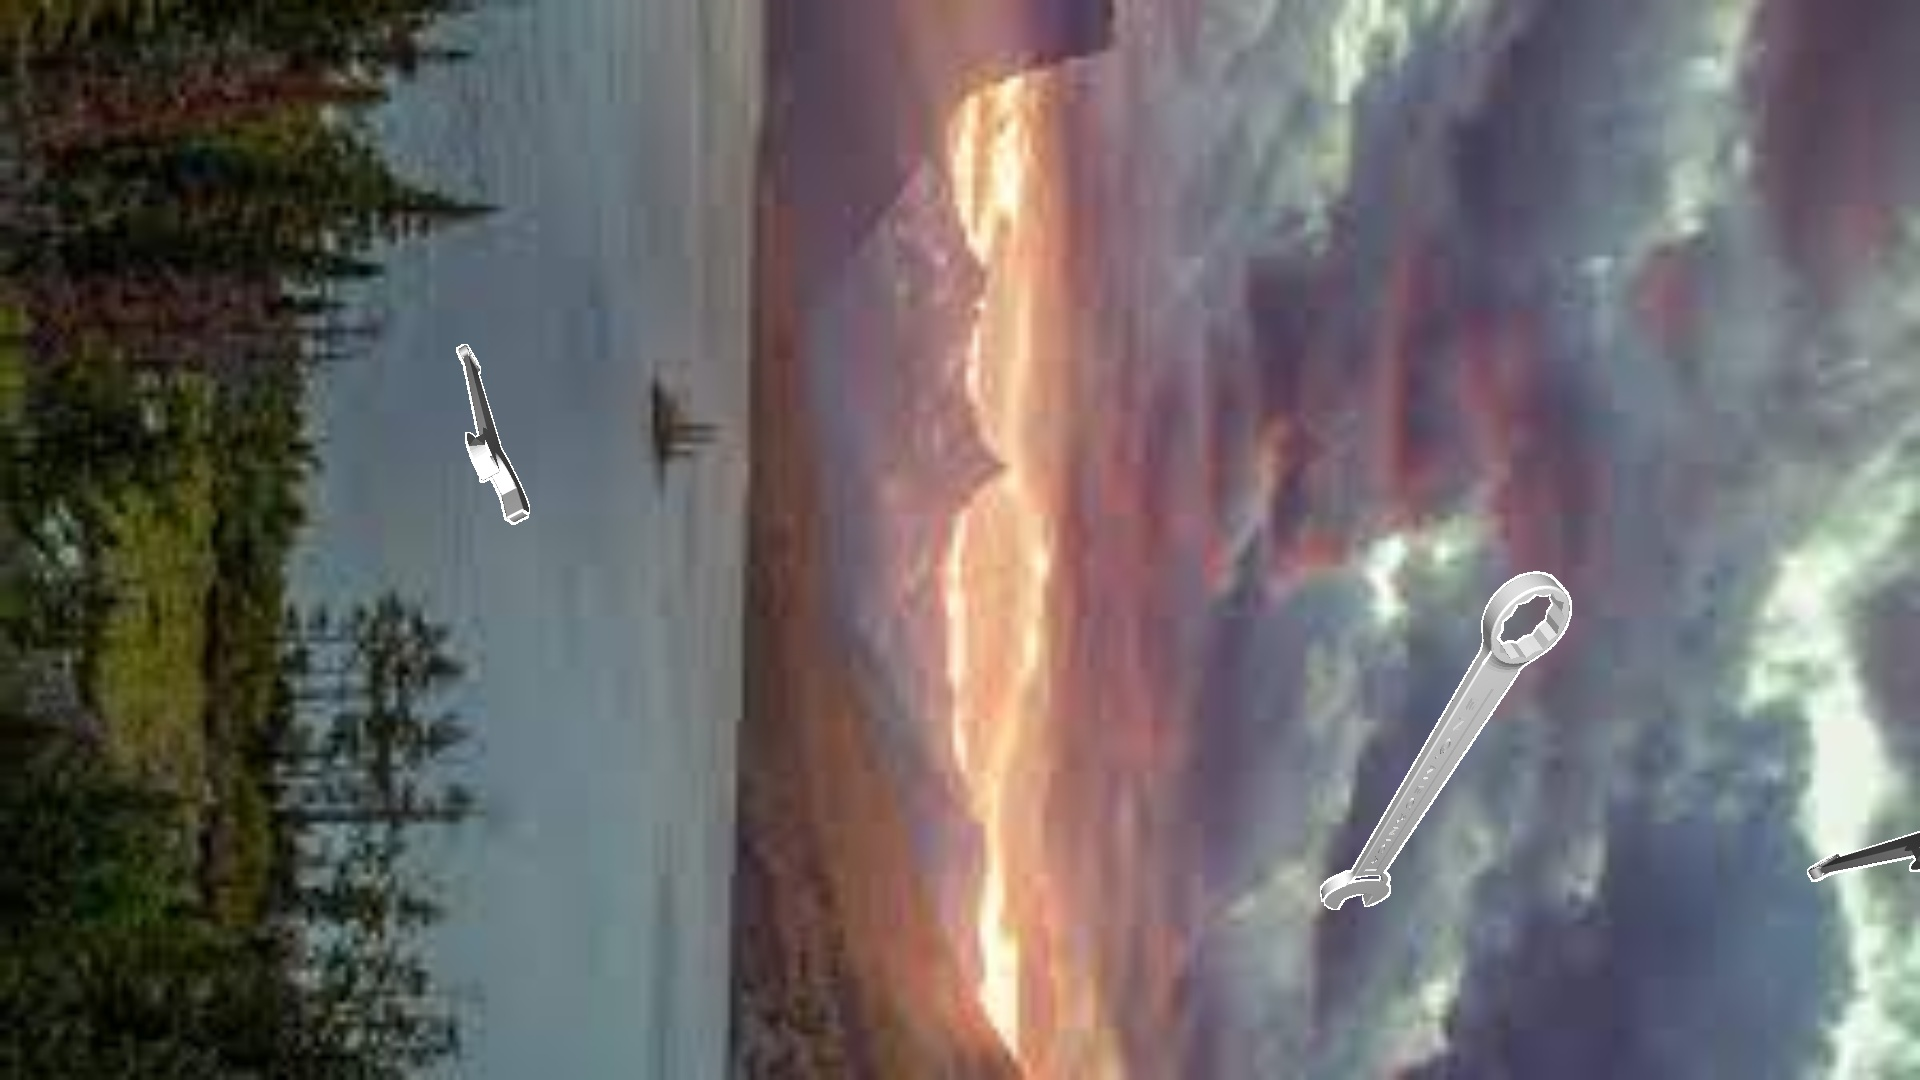Mixed Key: (1320, 571, 1571, 909), (456, 344, 529, 524), (1807, 831, 1919, 881)
